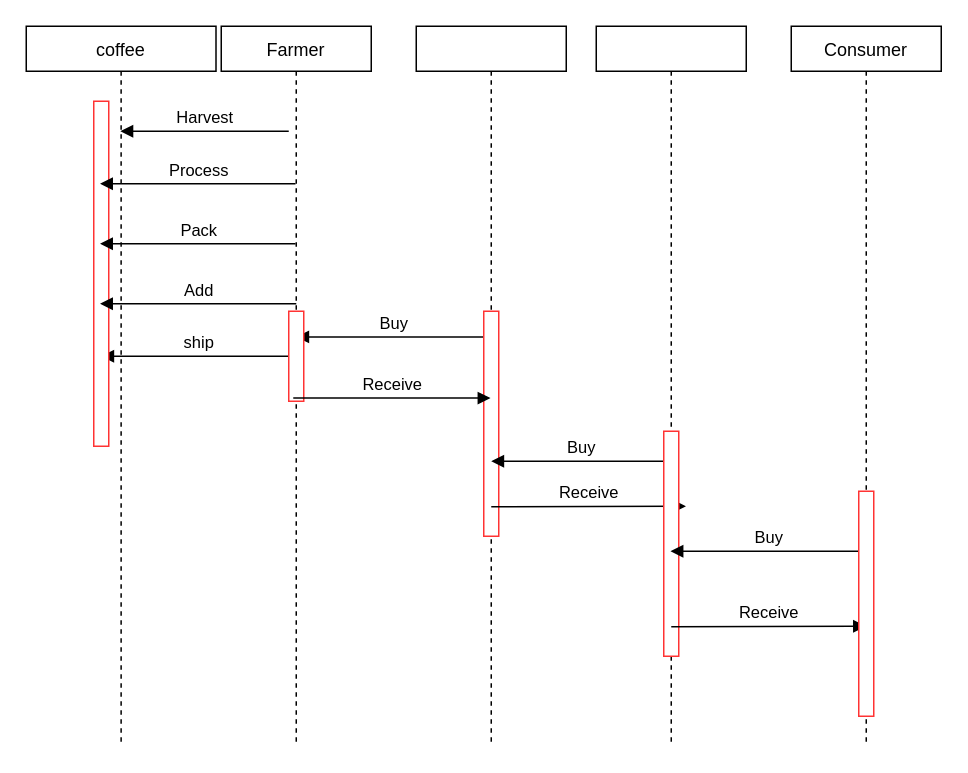
Image size: 968x773. Some labels were removed from this diagram. Here are the shapes that lost their labels. From the top down, the box of each, then its label:
(415, 25, 566, 746): Distributor
(595, 25, 746, 746): Retailer
